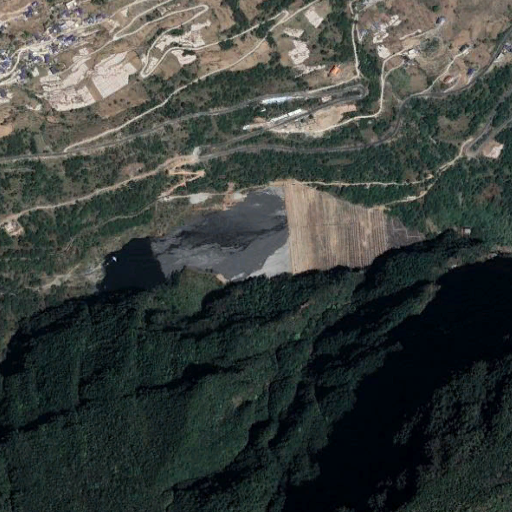tp: (89, 178, 435, 296)
